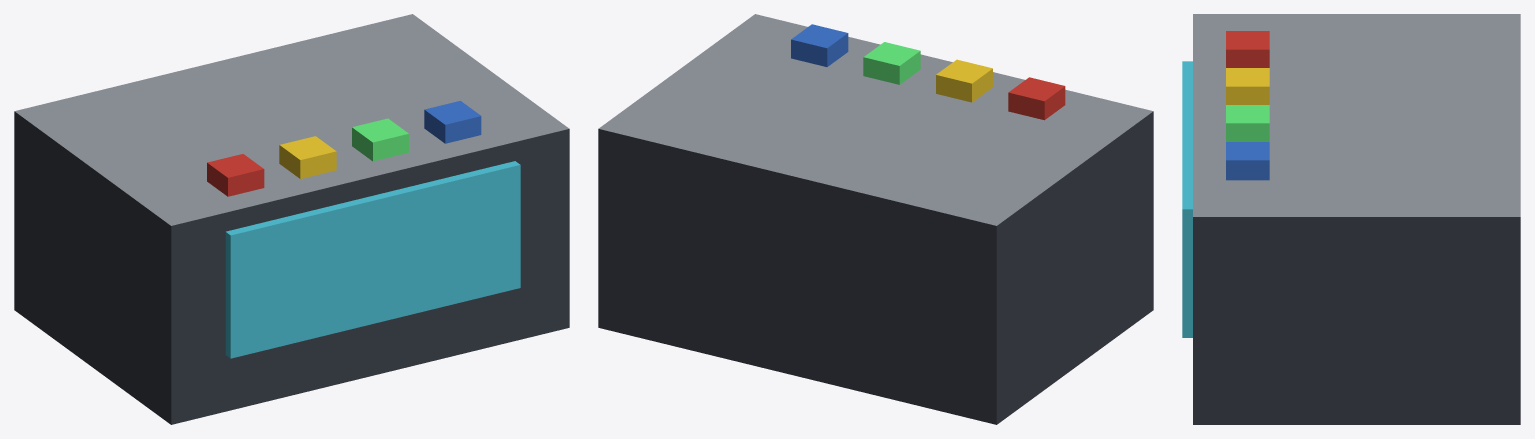
The model's file is control_module.obj.
The picture shows the model from 3 angles, left to right: view 1: azimuth 30°, elevation 25°; view 2: azimuth 150°, elevation 25°; view 3: azimuth 270°, elevation 25°; orthographic projection. The views are drawn at different scales.
Size of the model in its own units: 0.88 by 0.46 by 0.62.
